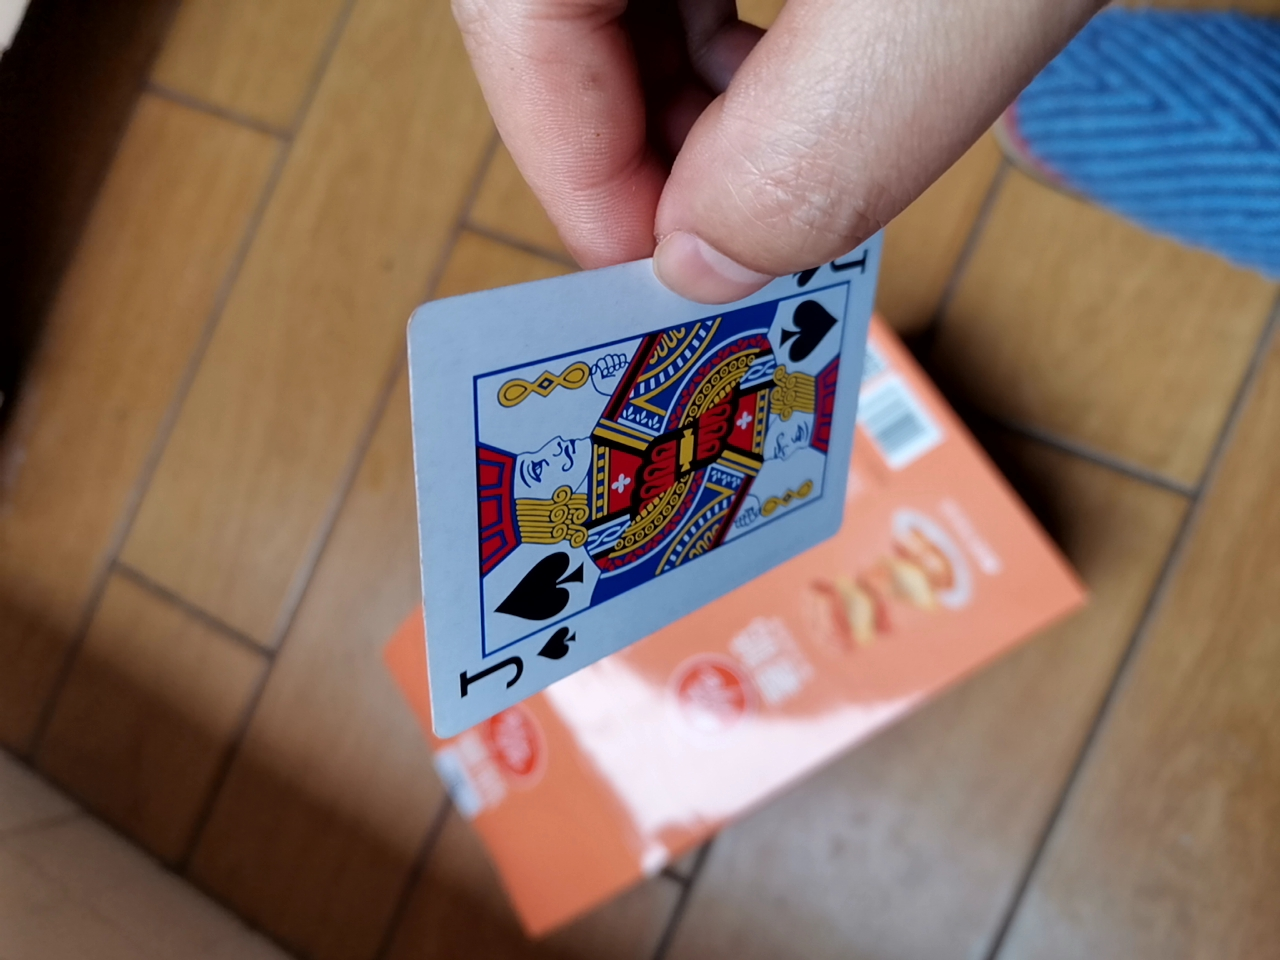ht j: (398, 238, 930, 813)
